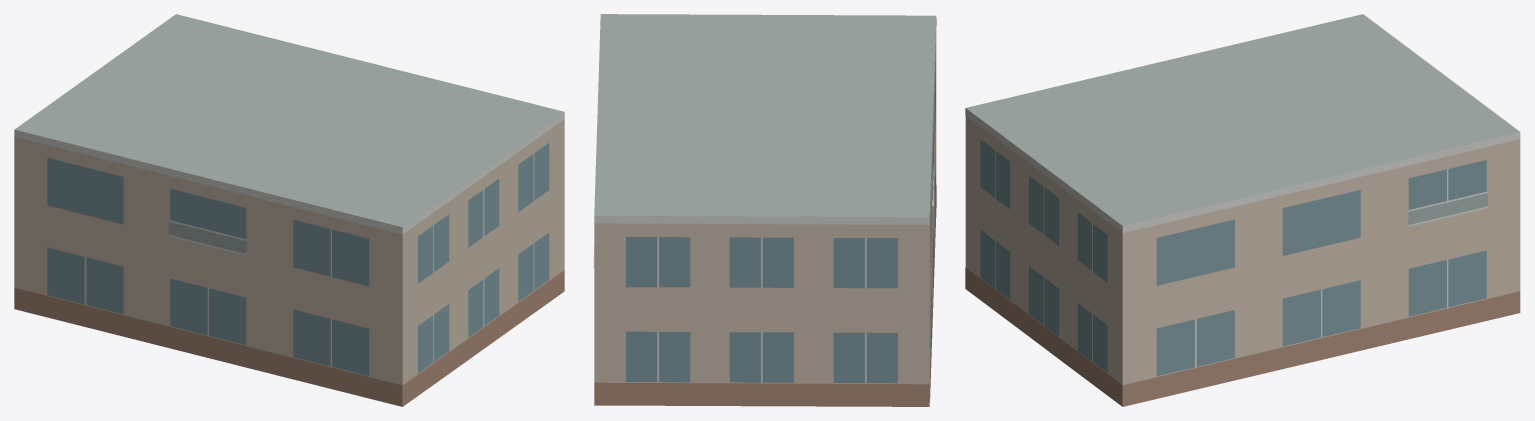
The model's file is survey-upis-32610609.glb.
The picture shows the model from 3 angles, left to right: view 1: azimuth 30°, elevation 25°; view 2: azimuth 150°, elevation 25°; view 3: azimuth 270°, elevation 25°; orthographic projection. The views are drawn at different scales.
Parts seen in each view (by area): view 1: survey-upis-32610609.tmp; view 2: survey-upis-32610609.tmp; view 3: survey-upis-32610609.tmp.
Part boxes in pixels (x1,y1,x2,y2): survey-upis-32610609.tmp: [14, 14, 564, 406]; survey-upis-32610609.tmp: [593, 14, 936, 406]; survey-upis-32610609.tmp: [965, 14, 1520, 406].
Size of the model in its own units: 15.33 by 6.1 by 16.96.
